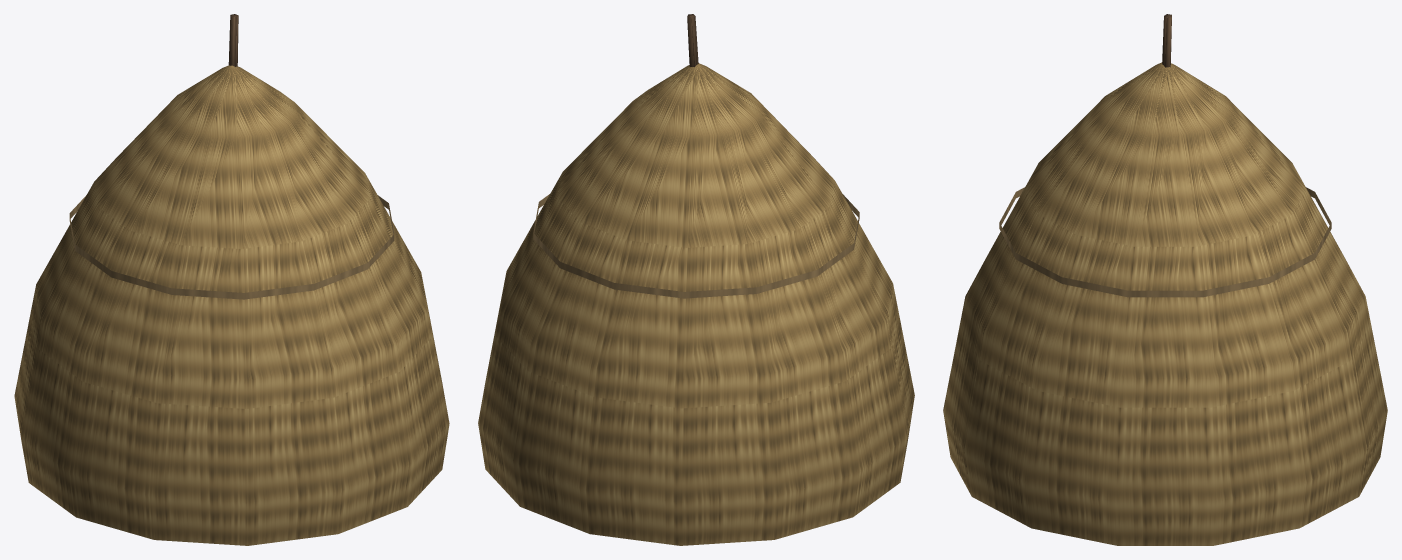
The model's file is Haystack_1.gltf.
The picture shows the model from 3 angles, left to right: view 1: azimuth 30°, elevation 25°; view 2: azimuth 150°, elevation 25°; view 3: azimuth 270°, elevation 25°; orthographic projection.
Parts seen in each view (by area): view 1: Haystack_1; view 2: Haystack_1; view 3: Haystack_1.
Part boxes in pixels (x1,y1,x2,y2): Haystack_1: (14, 14, 449, 545); Haystack_1: (478, 14, 914, 545); Haystack_1: (943, 14, 1387, 545).
Size of the model in its own units: 2.92 by 3.3 by 3.
3 materials, 3 textured.
